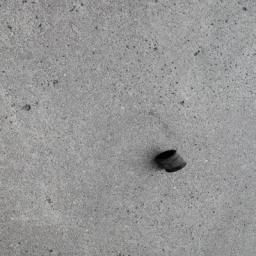FOD: (151, 148, 190, 177)
